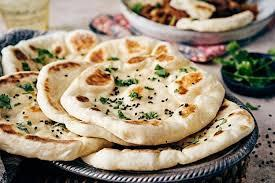Naan: (0, 29, 254, 181)
